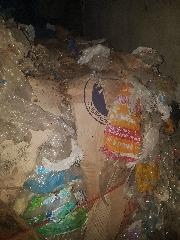general: (100, 82, 144, 162), (25, 190, 89, 234)
